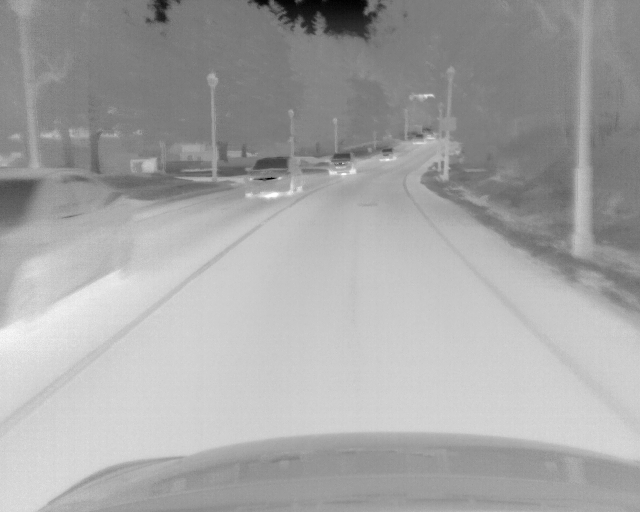car: (1, 166, 135, 327), (242, 156, 303, 200), (328, 151, 358, 176), (379, 146, 396, 162), (421, 126, 437, 141), (412, 132, 424, 144)
